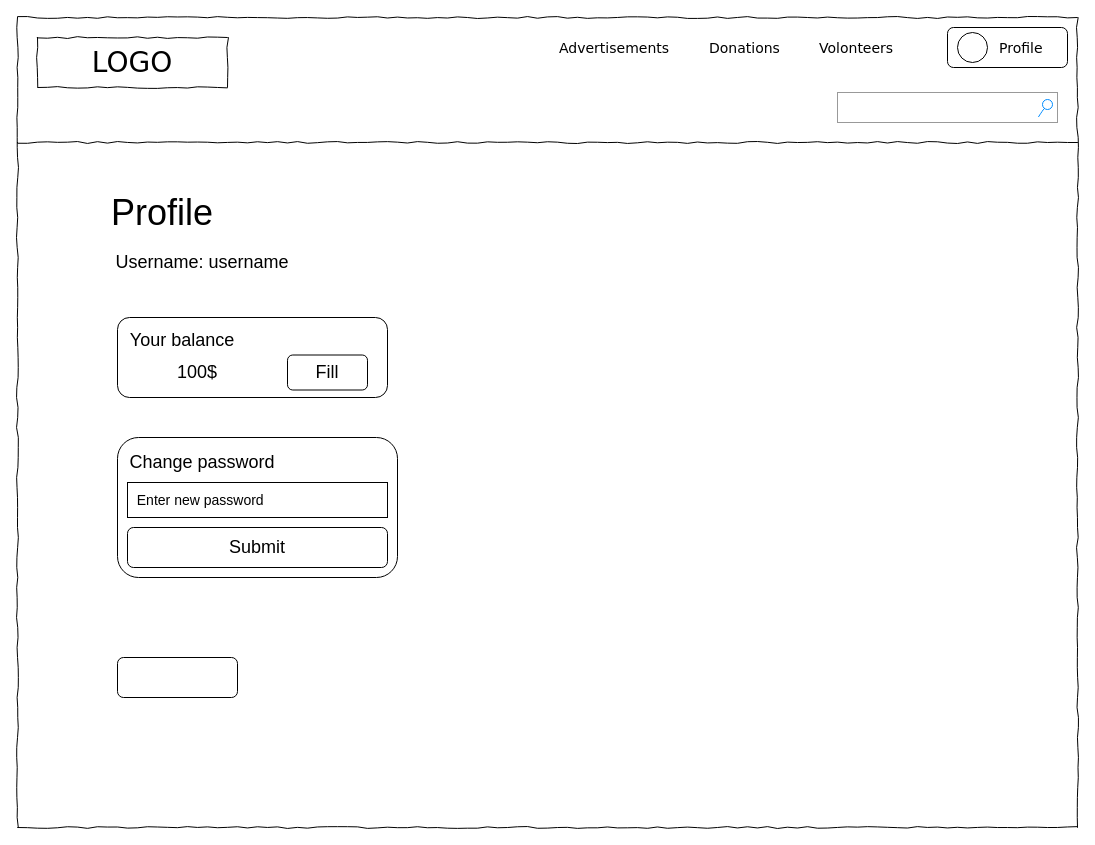
Image size: 1095x845. Some labels were removed from this diagram. Each missing label, with the box of its shape:
Log out: (116, 656, 238, 698)
Search: (836, 92, 1058, 122)
